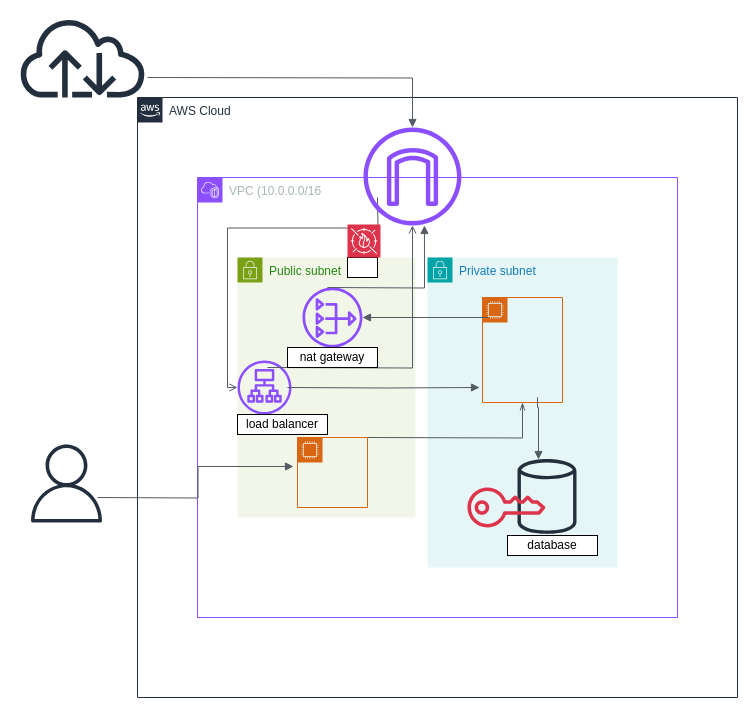
The diagram is 755 pixels wide and 715 high, and some of its shapes have lost their labels. The shapes that lost their labels are listed below. From the top down, each one's centre as x and y in pixels, then its label:
[362,267]: waf
[522,349]: Web Server
[332,472]: Bastion Host
